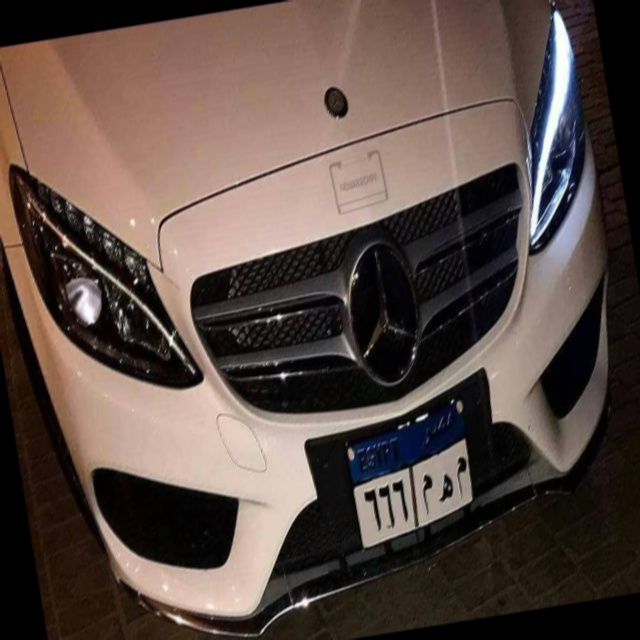License Plate: (339, 393, 484, 551)
